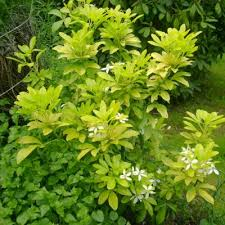flower: (126, 190, 143, 205), (117, 168, 135, 182), (140, 184, 158, 198), (134, 168, 150, 182), (182, 156, 199, 168), (205, 167, 221, 176)
